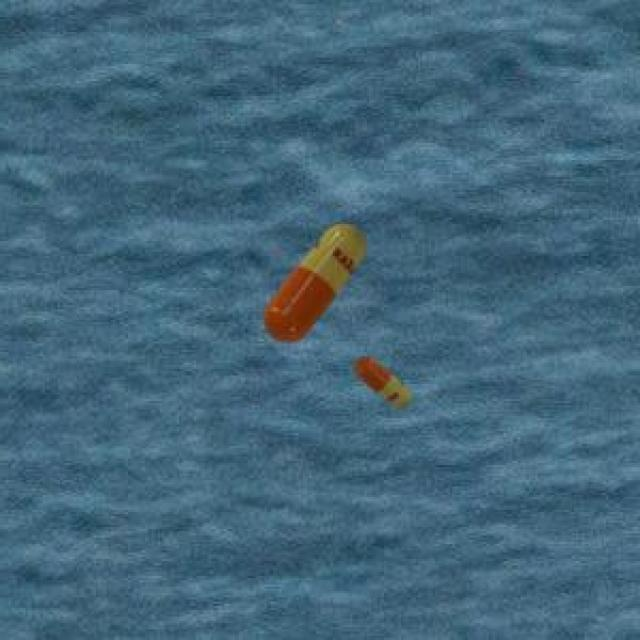Alaxan: (257, 206, 373, 348), (354, 353, 421, 415)
